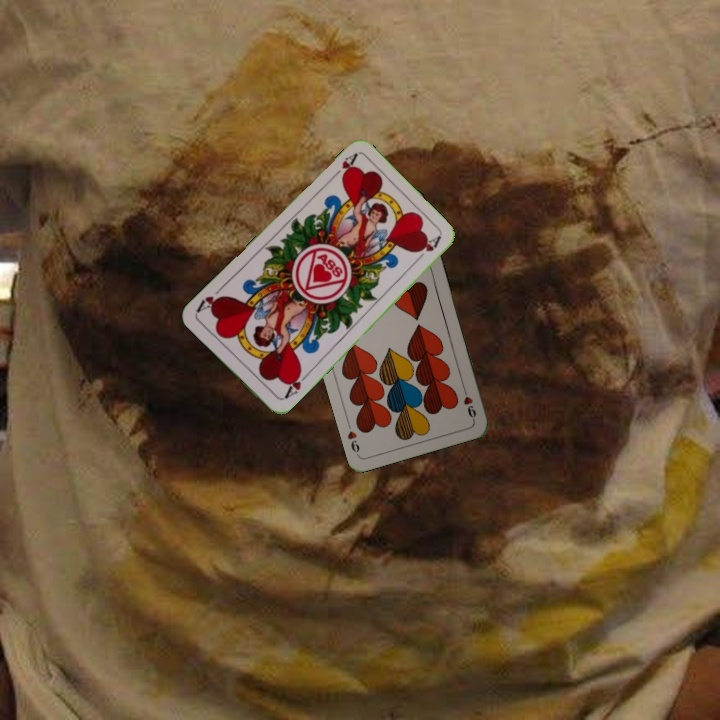H9: (459, 383, 479, 423)
HA: (278, 367, 311, 402), (327, 150, 360, 183)
